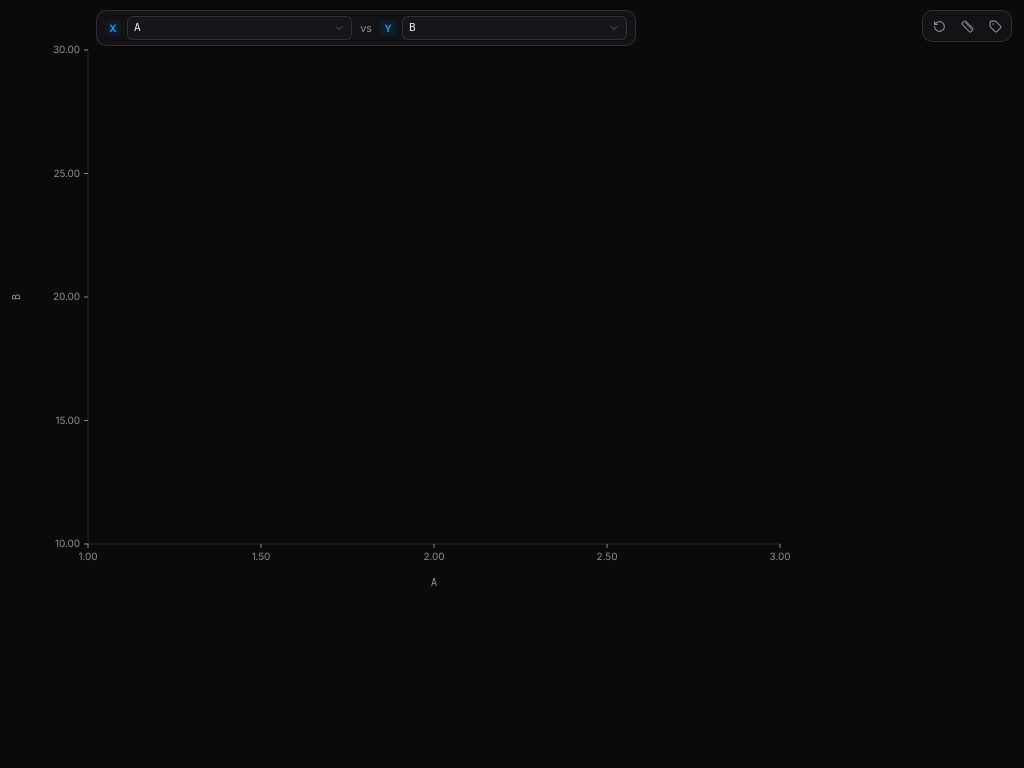
Scenario: ScatterChart › axis-scale editor › shows an error when nothing is entered
The width and height of the screenshot is (1024, 768).
Click the button titled "Pin the X/Y axis": (967, 26) [954,14,980,38]
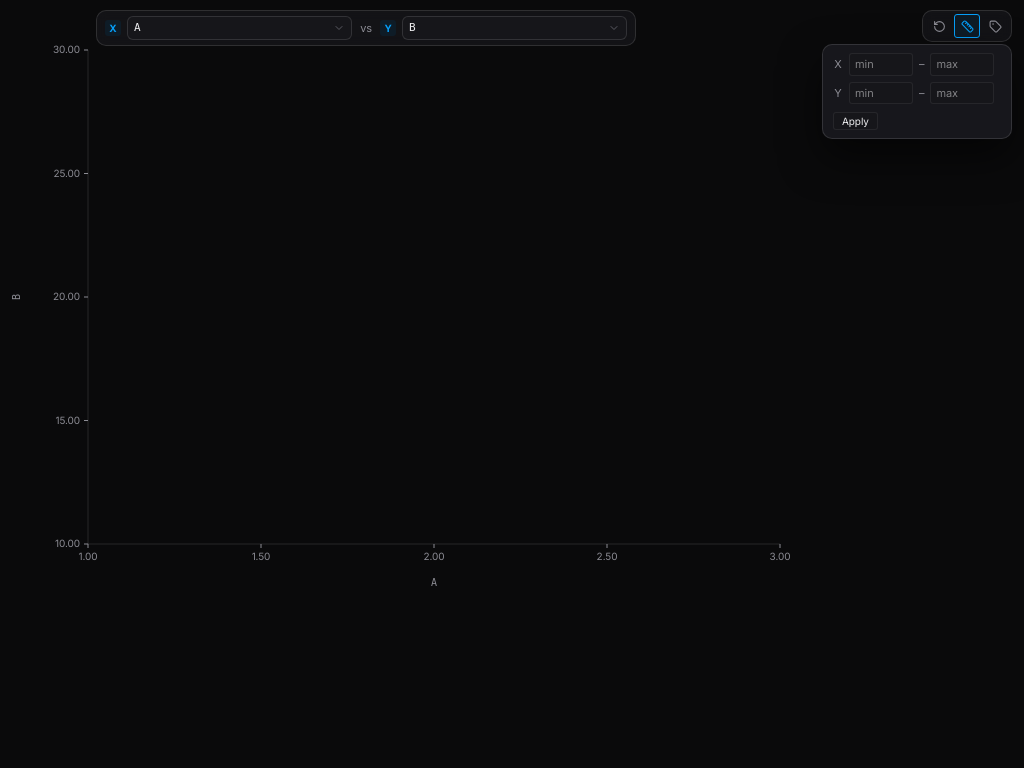
Click the button "Apply": (855, 121) [833,112,878,130]
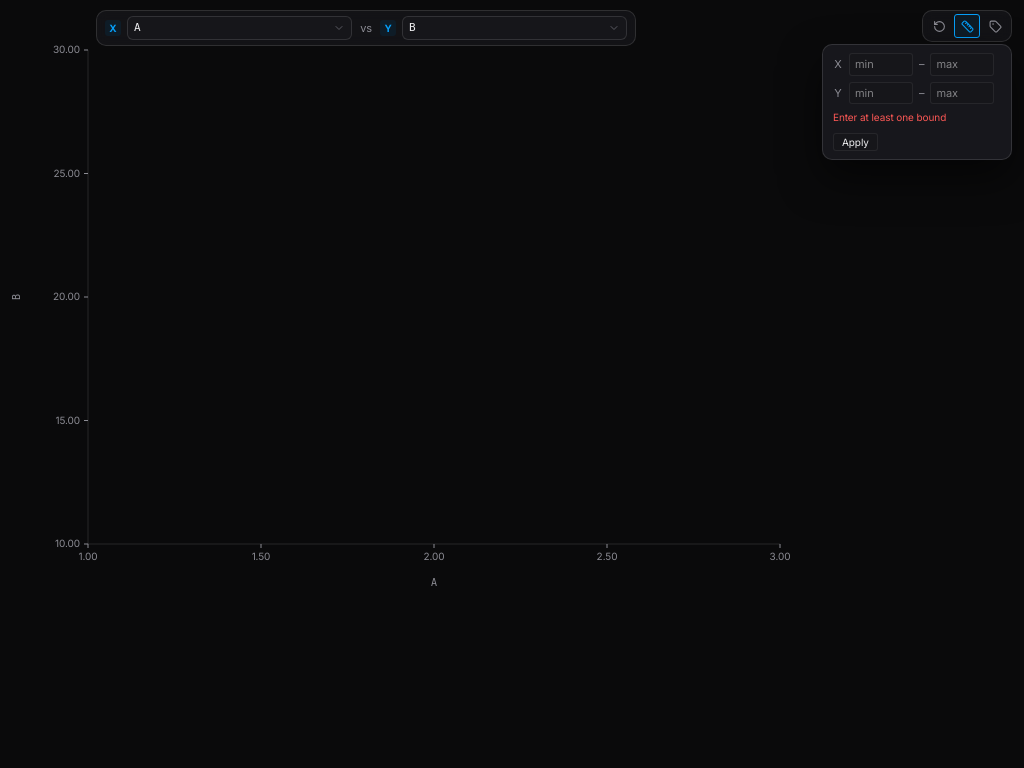
Check: the text "Enter at least one bound" is shown, box [833,111,946,123]
